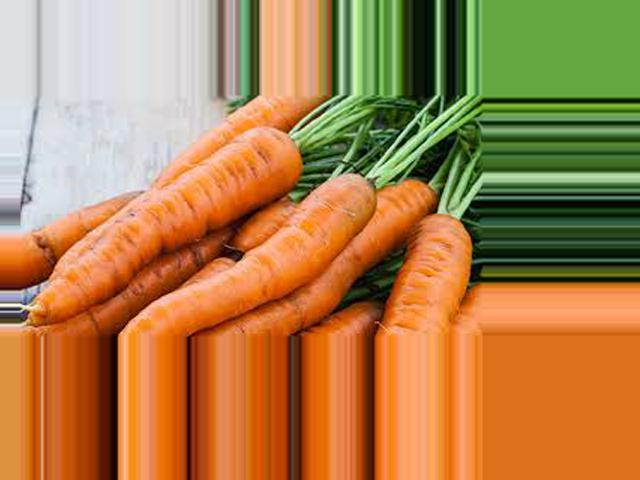carrot: (385, 194, 484, 332)
